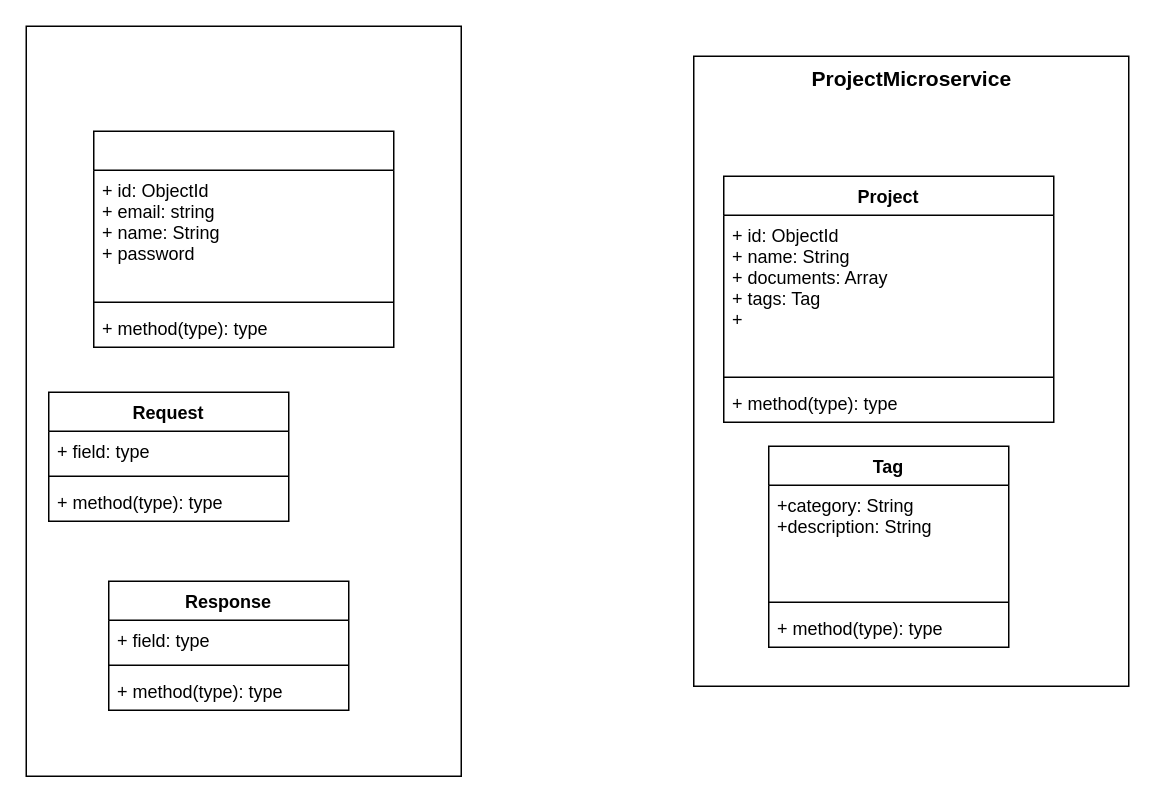
The diagram is 1155 pixels wide and 803 high, and some of its shapes have lost their labels. Each missing label, with the box of its shape:
User: (92, 130, 394, 347)
UserMicroservice: (25, 25, 461, 776)
